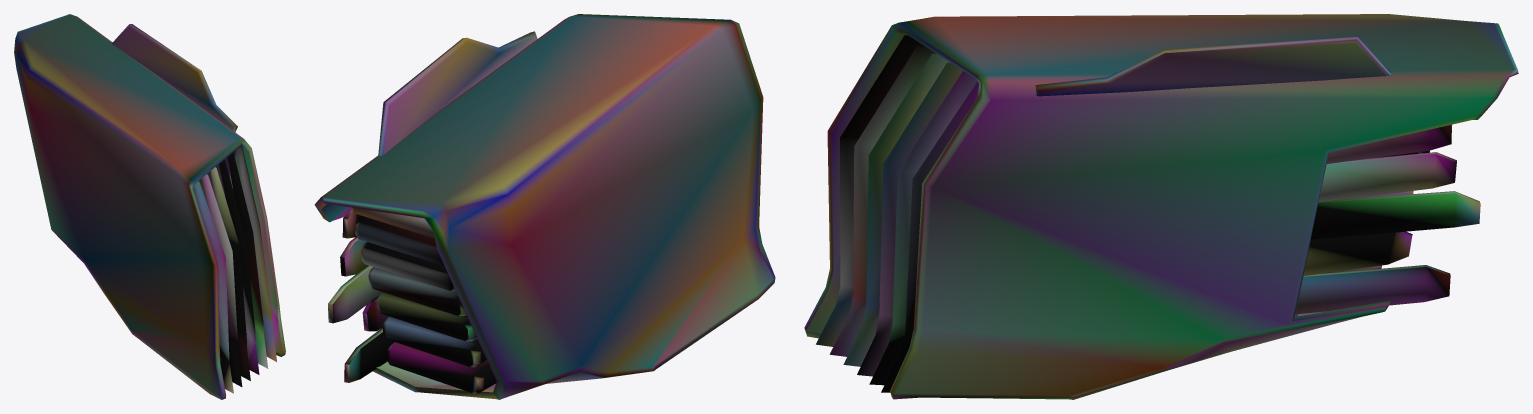
The model's file is ASE_Shrike_Gib_Engine_BL.gltf.
3 renders of one model, left to right at view 1: azimuth 30°, elevation 25°; view 2: azimuth 150°, elevation 25°; view 3: azimuth 270°, elevation 25°, orthographic. The views are drawn at different scales.
Parts seen in each view (by area): view 1: ASE_Shrike_Gib_Engine_BL; view 2: ASE_Shrike_Gib_Engine_BL; view 3: ASE_Shrike_Gib_Engine_BL.
Boxes of the visible parts, box(x1,y1,x2,y2) form: ASE_Shrike_Gib_Engine_BL: box(14, 14, 285, 399); ASE_Shrike_Gib_Engine_BL: box(314, 14, 775, 399); ASE_Shrike_Gib_Engine_BL: box(804, 14, 1518, 399).
Bounding box in the file's own units: 0.3355 × 0.7152 × 1.27.
